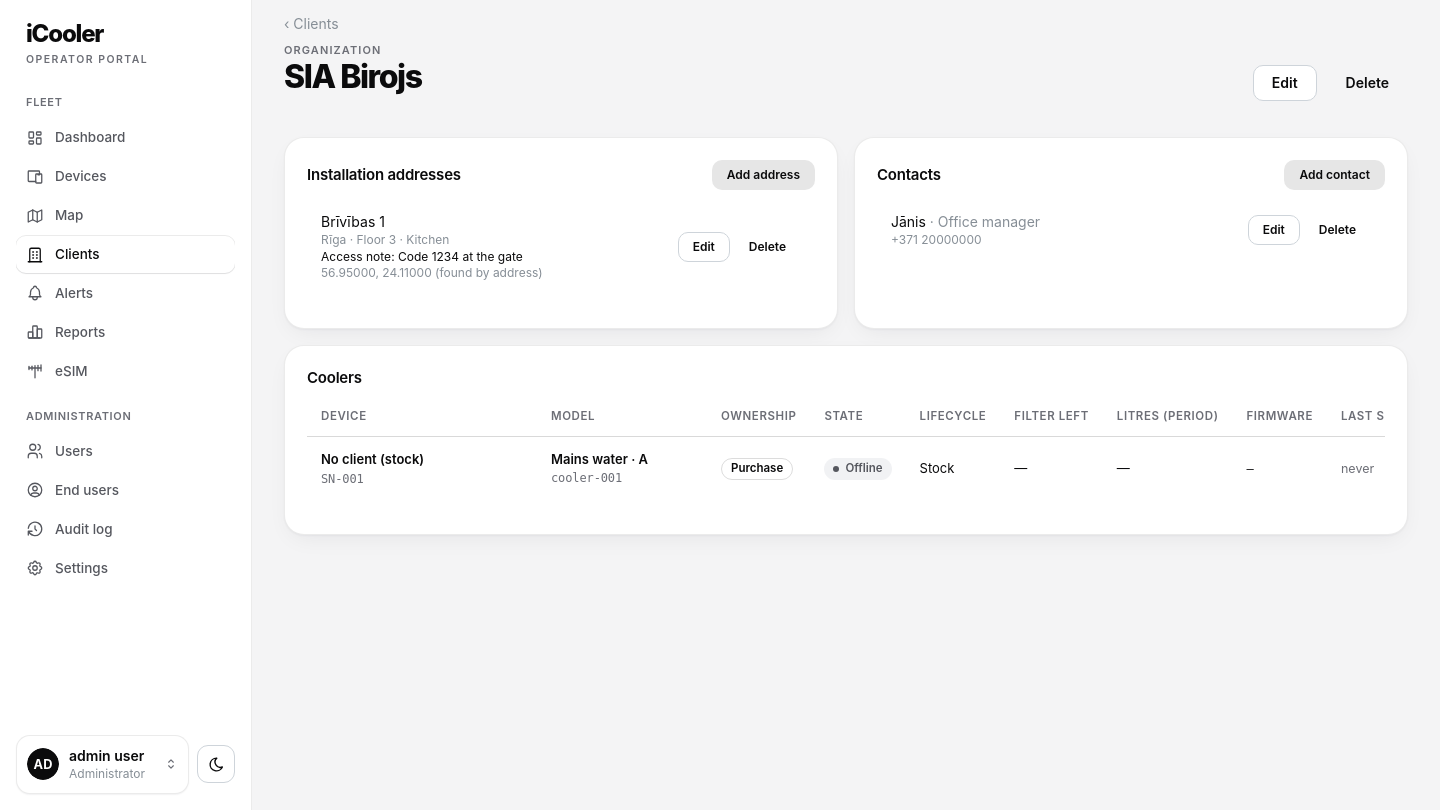
Test: клиенты › удаление клиента с устройствами — сообщение сервера (409), остаёмся в карточке
The width and height of the screenshot is (1440, 810).
Click the button "Delete" in the row of "SIA Birojs": (1367, 82) top-left (1327, 64), bottom-right (1408, 100)
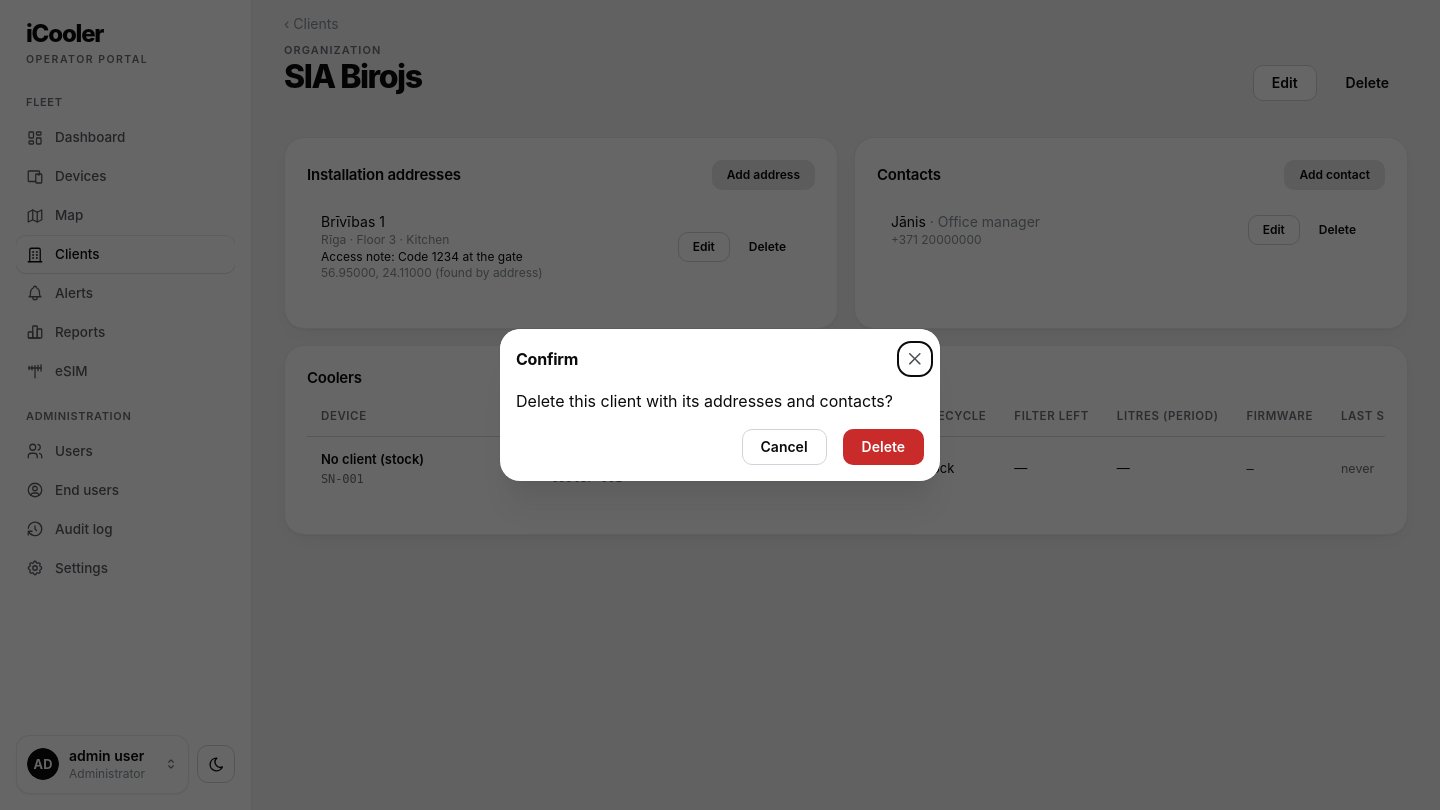
Click the button "Delete": (883, 447) top-left (843, 429), bottom-right (924, 465)
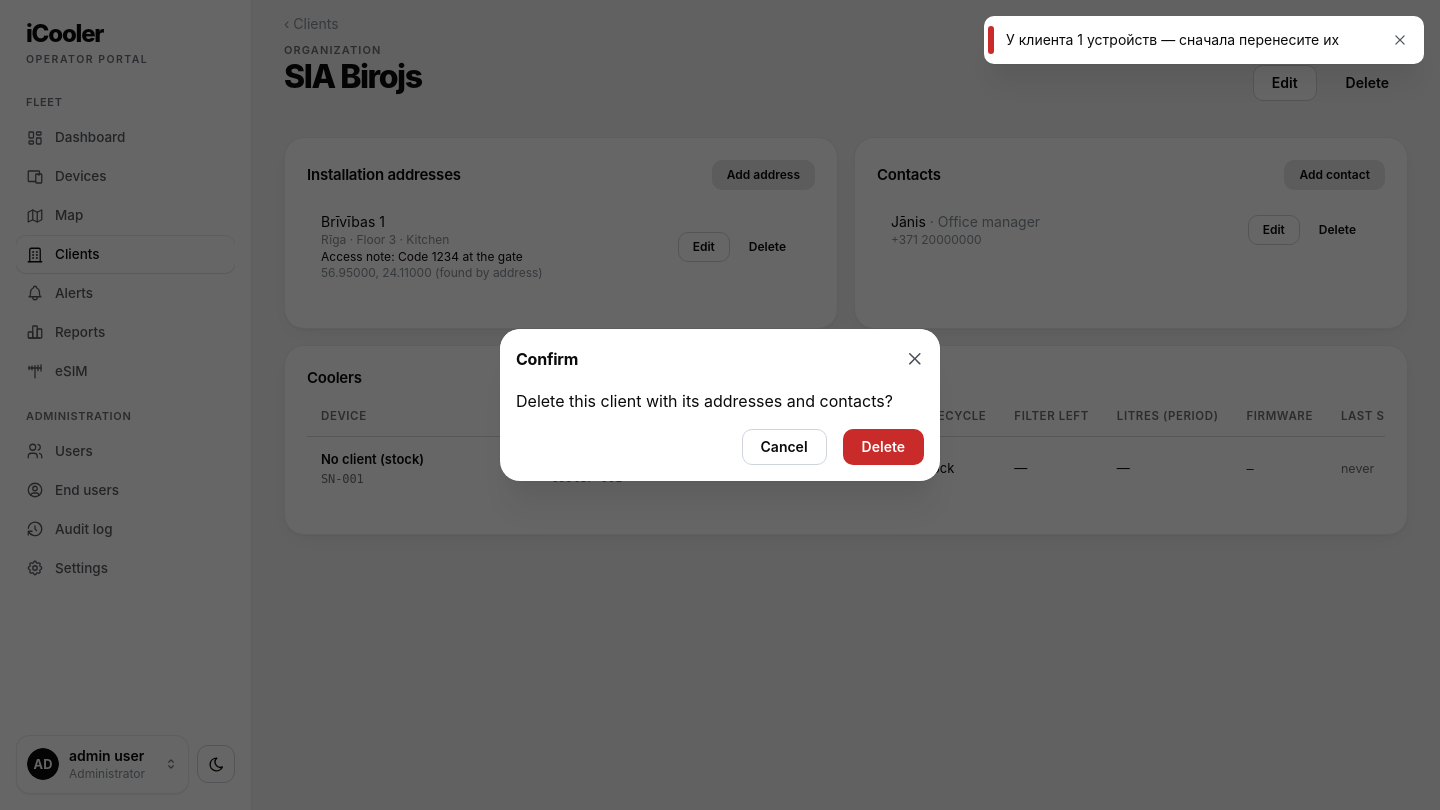
Expected: the heading "SIA Birojs" is shown, top-left (284, 59), bottom-right (422, 94)
Expected: the text "У клиента 1 устройств — сначала перенесите их" is shown, top-left (1006, 30), bottom-right (1376, 50)
